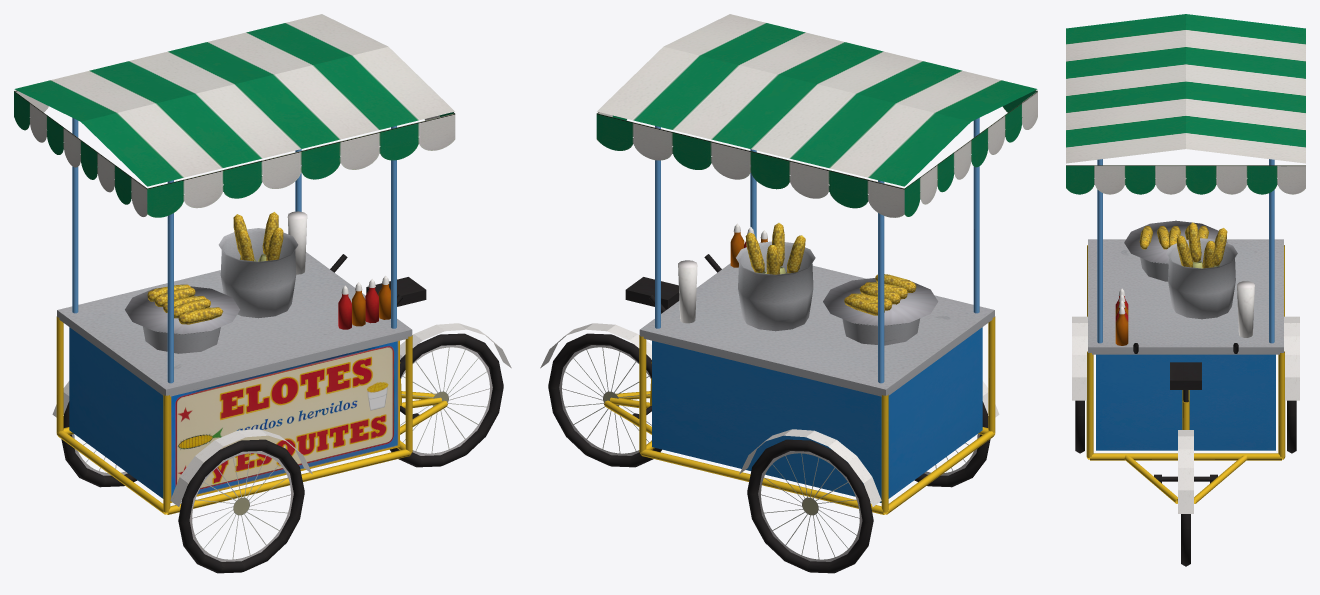
File: carrito_elotes.obj
The picture shows the model from 3 angles, left to right: view 1: azimuth 30°, elevation 25°; view 2: azimuth 150°, elevation 25°; view 3: azimuth 270°, elevation 25°; orthographic projection. The views are drawn at different scales.
Visible parts, largest first — view 1: carrito_elotes; view 2: carrito_elotes; view 3: carrito_elotes.
Boxes of the visible parts, x1,y1,x2,y2 form: carrito_elotes: [14, 14, 511, 573]; carrito_elotes: [540, 14, 1037, 573]; carrito_elotes: [1066, 14, 1305, 566].
Bounding box in the file's own units: 2.22 × 2.15 × 1.2.
